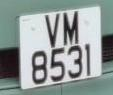1: (82, 42, 95, 80)
3: (66, 42, 86, 83)
5: (47, 46, 69, 85)
8: (29, 46, 50, 89)
M: (61, 9, 82, 49)
V: (41, 11, 63, 51)
